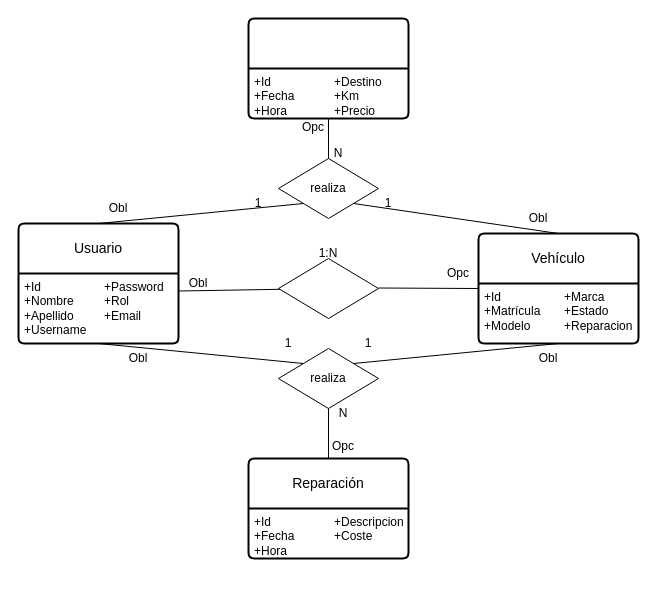
This 656x590 diagram has some shape labels left out. Here are the shapes that lost their labels. From the top down, the box of each, then its label:
(247, 17, 409, 119): Viaje
(278, 258, 378, 318): tiene
